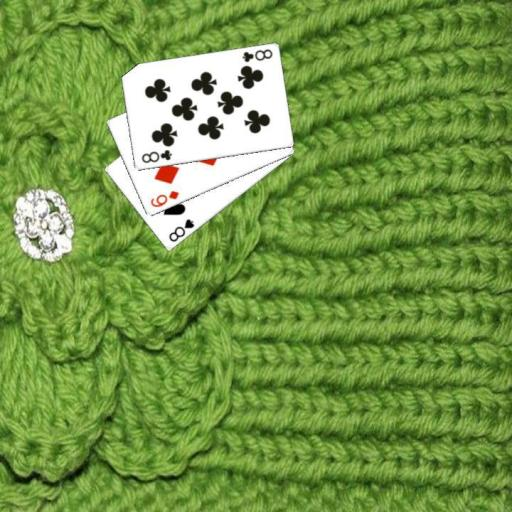6D: (147, 188, 181, 209)
8C: (138, 146, 173, 165), (239, 46, 274, 64)
8S: (166, 216, 196, 244)
